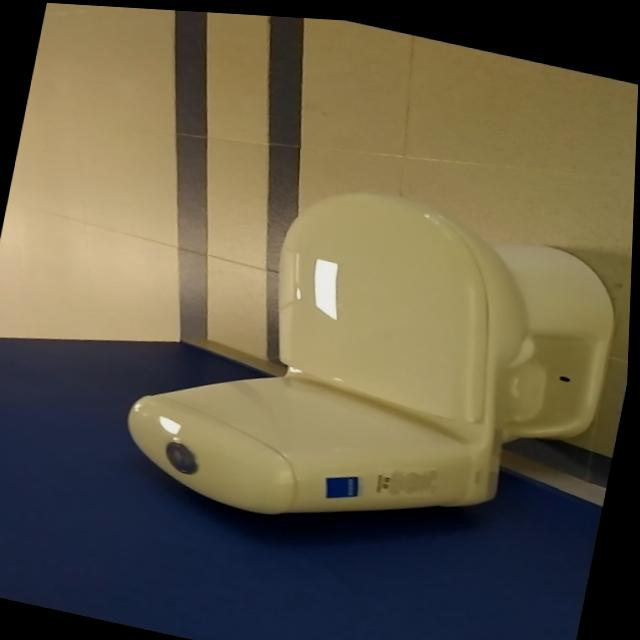toilet: (116, 144, 634, 577)
